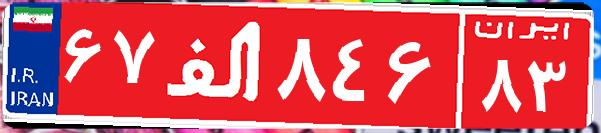3: (525, 38, 570, 115)
4: (330, 28, 385, 110)
6: (385, 28, 445, 110), (57, 26, 110, 107)
7: (110, 28, 158, 105)
8: (273, 28, 330, 110), (475, 38, 525, 113)
الف: (158, 15, 273, 115)
